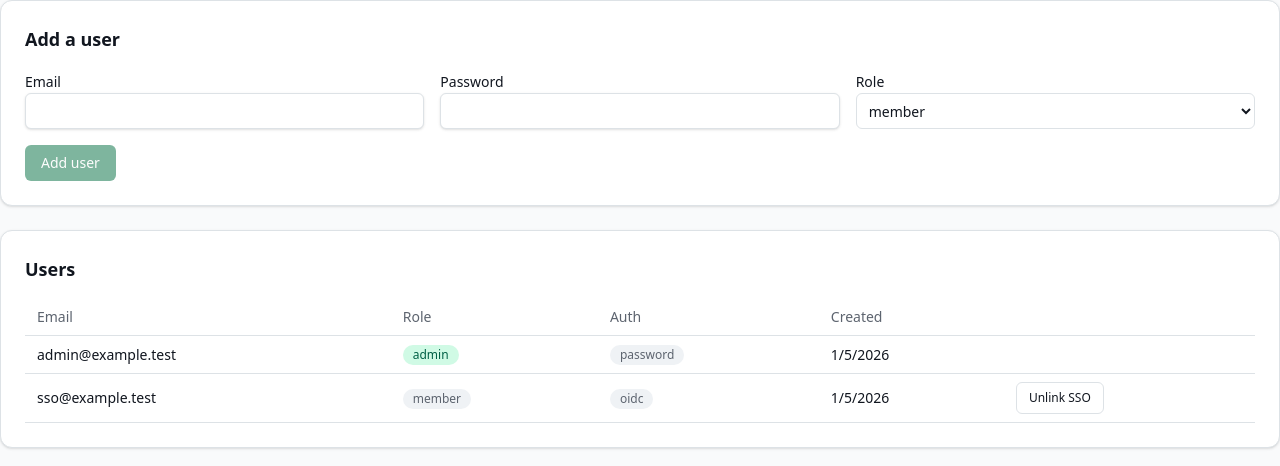
Users › unlinks SSO for a linked user behind a confirm, then refreshes the list
Click the button "Unlink SSO".
click(1060, 398)  # box left=1016, top=382, right=1104, bottom=414
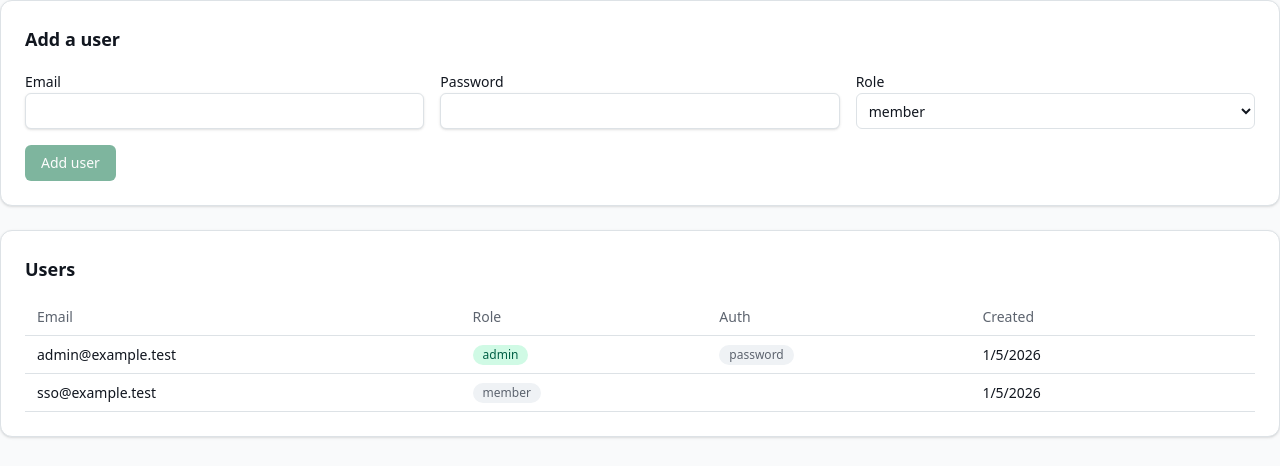
Expected: the text "oidc" is gone
Expected: the button "Unlink SSO" is gone
